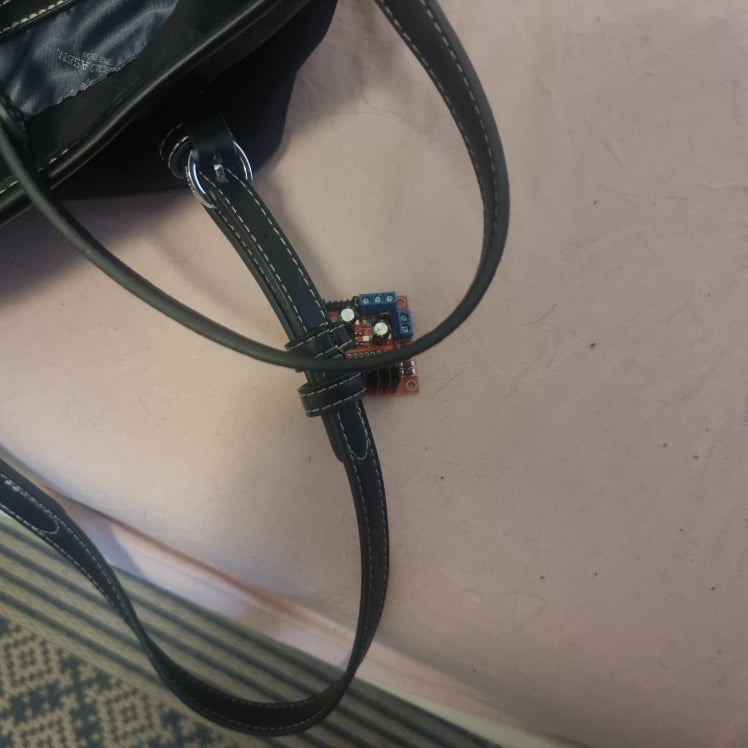MOTOR: (317, 291, 419, 399)
